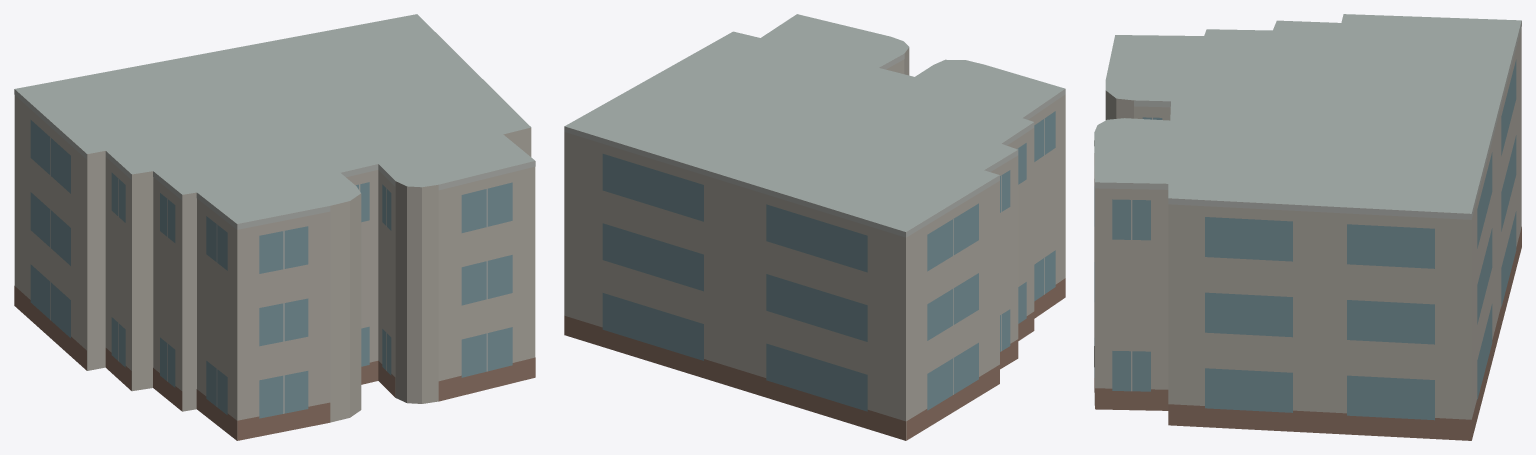
File: survey-upis-33007850.glb
3 renders of one model, left to right at view 1: azimuth 30°, elevation 25°; view 2: azimuth 150°, elevation 25°; view 3: azimuth 270°, elevation 25°, orthographic. The views are drawn at different scales.
Parts seen in each view (by area): view 1: survey-upis-33007850.tmp; view 2: survey-upis-33007850.tmp; view 3: survey-upis-33007850.tmp.
Boxes of the visible parts, x1,y1,x2,y2 form: survey-upis-33007850.tmp: (14, 14, 535, 440); survey-upis-33007850.tmp: (564, 14, 1065, 440); survey-upis-33007850.tmp: (1094, 14, 1521, 440).
Size of the model in its own units: 17.29 by 9.15 by 15.63.
